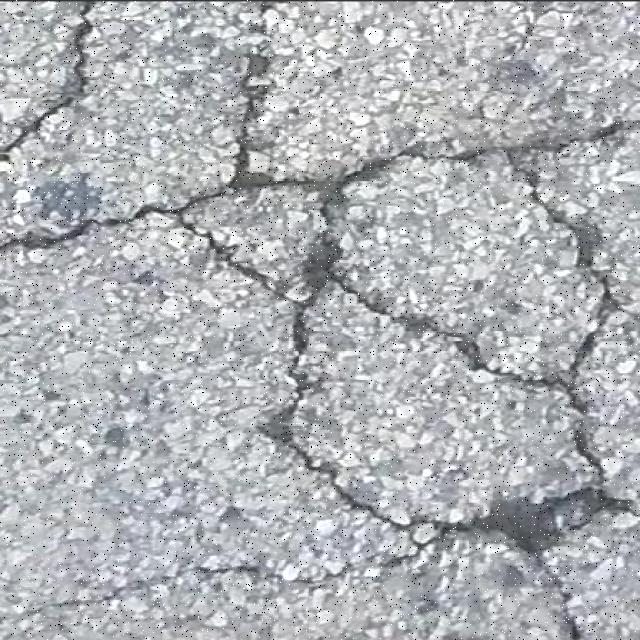Crack: (268, 144, 640, 640), (497, 117, 639, 270), (0, 0, 92, 164), (1, 565, 249, 620), (221, 0, 289, 194), (1, 192, 221, 246), (179, 221, 288, 297), (503, 0, 618, 56)
